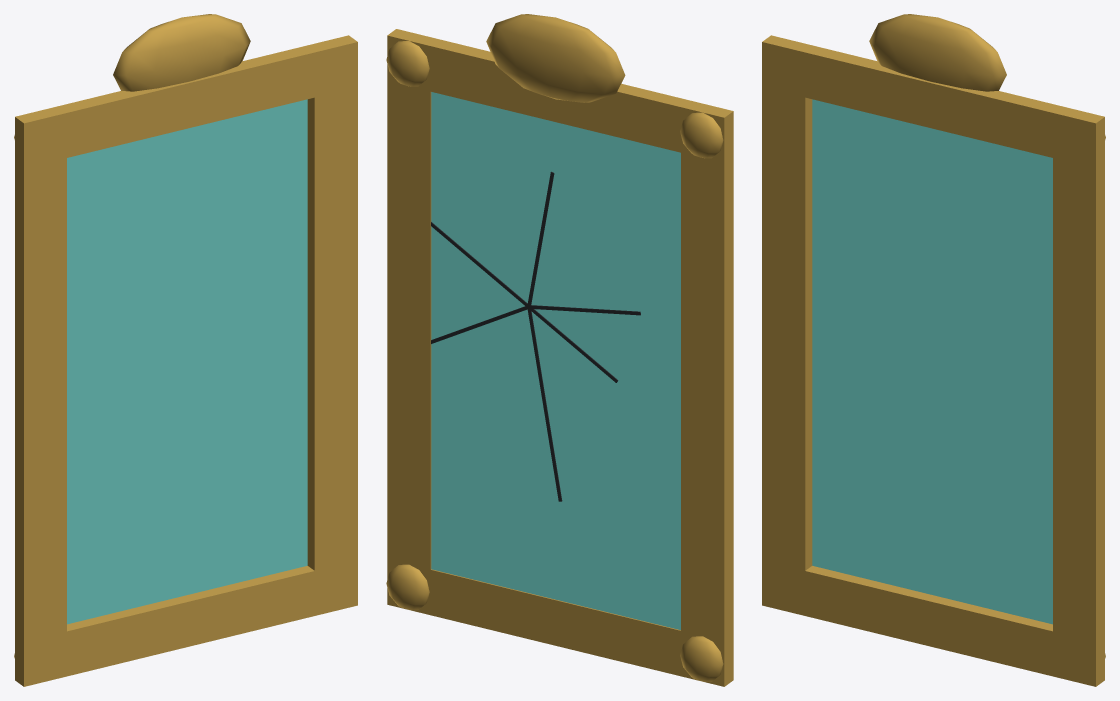
The model's file is SM_ENV_MolduraPortal.fbx.
3 views of the same model, side by side, from view 1: azimuth 30°, elevation 25°; view 2: azimuth 150°, elevation 25°; view 3: azimuth 330°, elevation 25° (orthographic).
Parts seen in each view (by area): view 1: SM_ENV_MolduraPortal; view 2: SM_ENV_MolduraPortal; view 3: SM_ENV_MolduraPortal.
Part boxes in pixels (box(x1,y1,x2,y2)): SM_ENV_MolduraPortal: box(14, 14, 357, 686); SM_ENV_MolduraPortal: box(386, 14, 733, 686); SM_ENV_MolduraPortal: box(762, 14, 1105, 686).
Bounding box in the file's own units: 1.49 × 2.65 × 0.1372.
